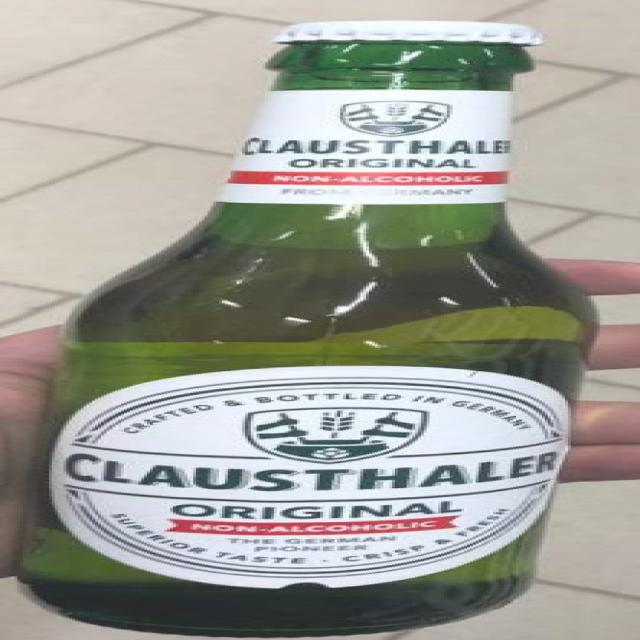Clausthaler Original Non-Alcoholic: (3, 0, 640, 640)
